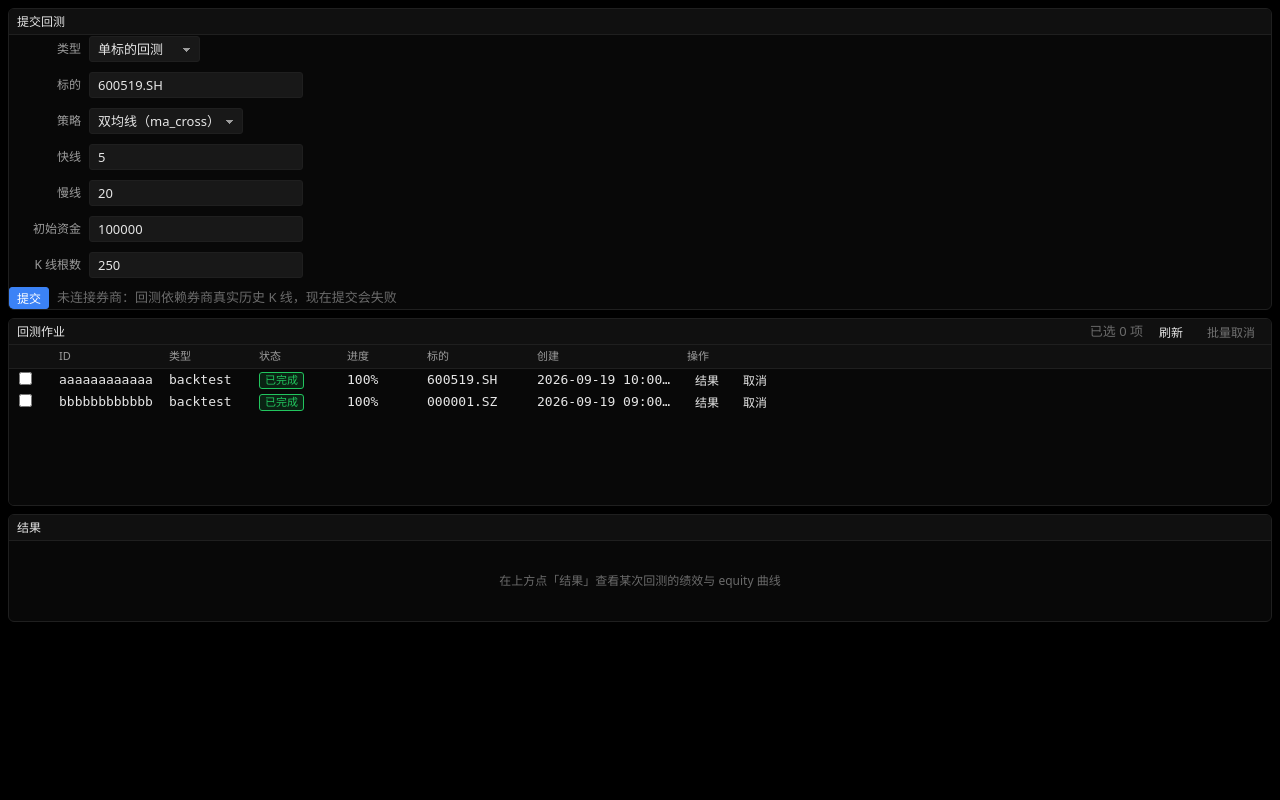
策略回测页 › 完成态：显示关键指标
Expected: the text "600519.SH" is shown, 427,372 -> 498,387
Click the button "结果" in the row of "aaaaaaaaaaaa" at (707, 380), box 687,368 -> 727,390
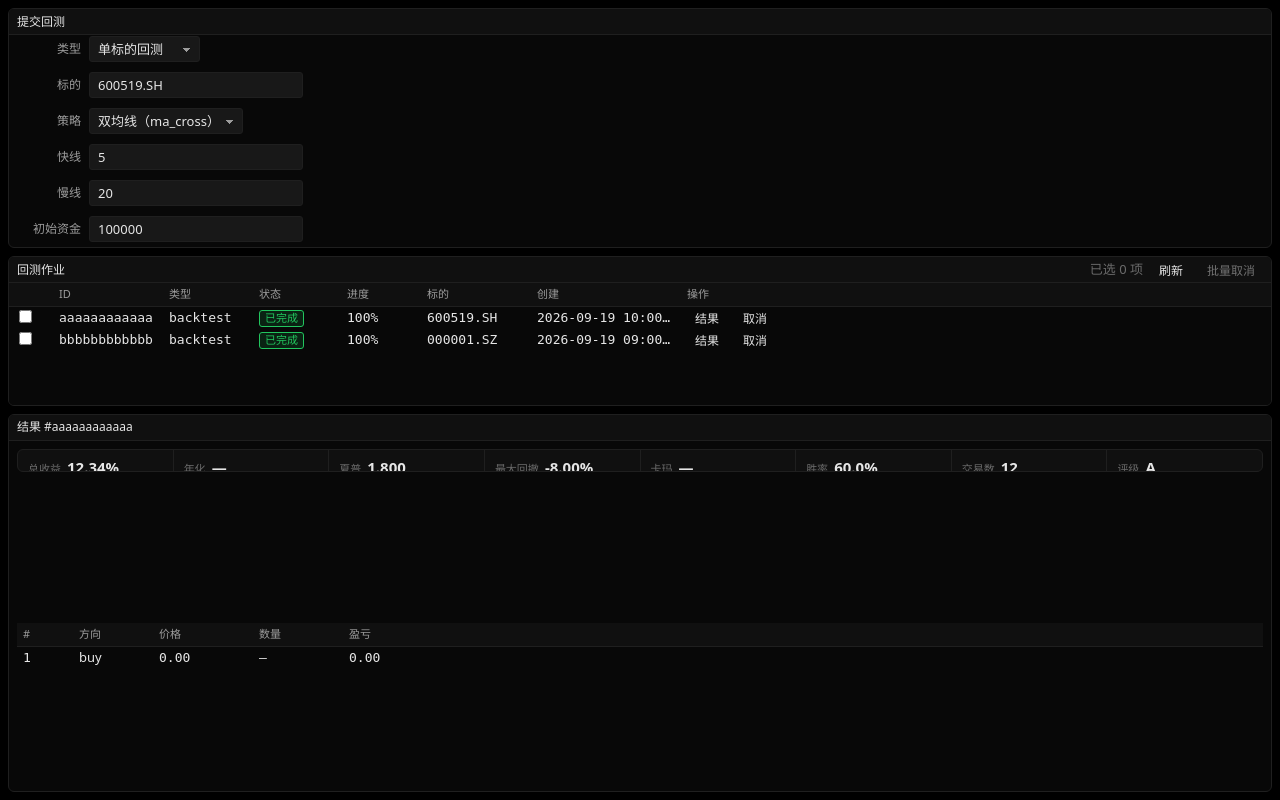
Expected: the text "总收益" is shown, 28,461 -> 61,472
Expected: the text "12.34%" is shown, 67,457 -> 119,472
Expected: the text "1.800" is shown, 367,457 -> 406,472
